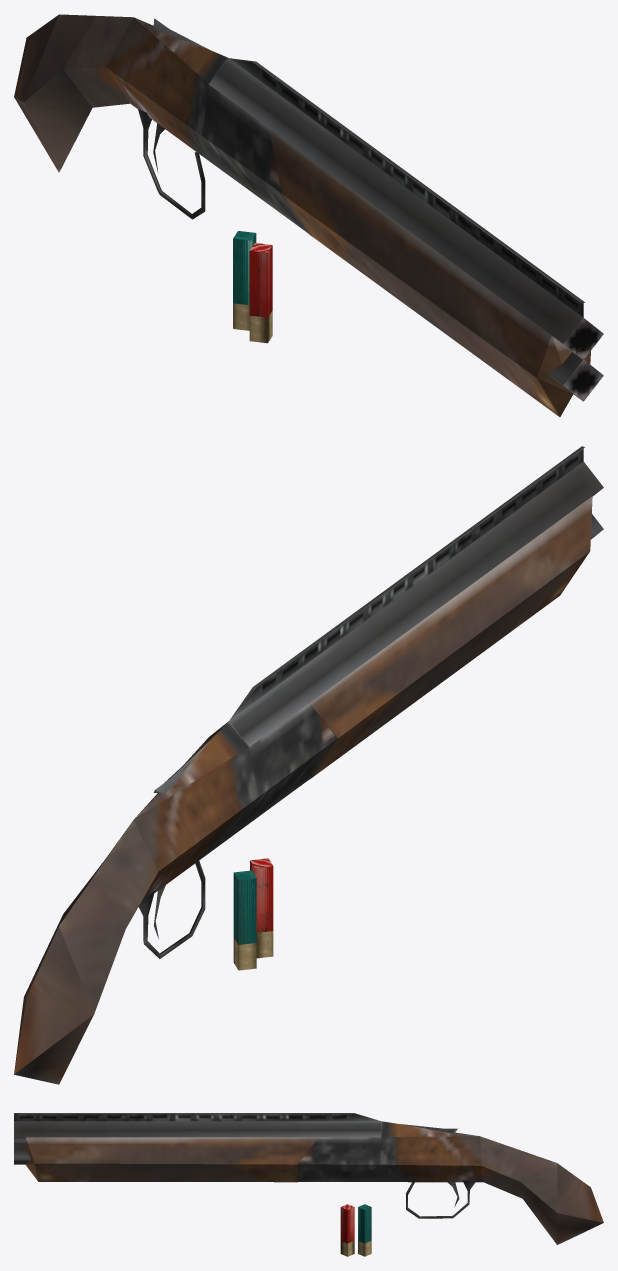
File: sawed_off_over_under.obj
The picture shows the model from 3 angles, top to bottom: view 1: azimuth 30°, elevation 25°; view 2: azimuth 150°, elevation 25°; view 3: azimuth 270°, elevation 25°; orthographic projection. The views are drawn at different scales.
Visible parts, largest first — view 1: Barrel&HandGaurd, Body.003, ShellLowPolyRed, ShellLowPolyGreen; view 2: Barrel&HandGaurd, Body.003, ShellLowPolyGreen, ShellLowPolyRed; view 3: Barrel&HandGaurd, Body.003, ShellLowPolyRed, ShellLowPolyGreen, Trigger&Lever.
Boxes of the visible parts, x1,y1,x2,y2 form: Barrel&HandGaurd: (209, 58, 603, 416); Body.003: (14, 14, 308, 233); ShellLowPolyRed: (249, 243, 272, 343); ShellLowPolyGreen: (233, 231, 256, 330); Barrel&HandGaurd: (229, 446, 603, 779); Body.003: (14, 703, 337, 1084); ShellLowPolyGreen: (233, 870, 256, 970); ShellLowPolyRed: (250, 858, 273, 958); Barrel&HandGaurd: (14, 1113, 381, 1182); Body.003: (297, 1121, 603, 1244); ShellLowPolyRed: (340, 1204, 354, 1256); ShellLowPolyGreen: (358, 1204, 371, 1256); Trigger&Lever: (401, 1124, 459, 1207).
Size of the model in its own units: 0.1468 by 0.5407 by 2.06.
4 materials, 4 textured.
